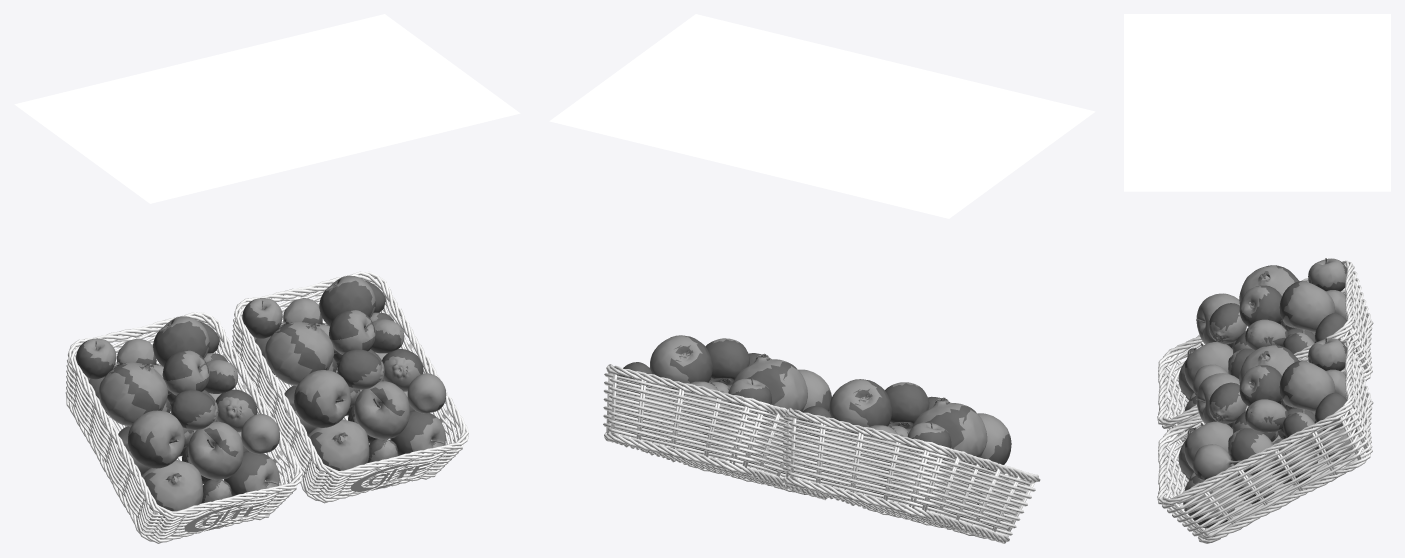
File: khronos fruit basket.gltf
3 renders of one model, left to right at view 1: azimuth 30°, elevation 25°; view 2: azimuth 150°, elevation 25°; view 3: azimuth 270°, elevation 25°, orthographic. The views are drawn at different scales.
Visible parts, largest first — view 1: Plane, FruitRight, FruitLeft, BasketLeft, BasketRight, LogoRight, LogoLeft; view 2: Plane, BasketLeft, BasketRight, FruitLeft, FruitRight; view 3: Plane, FruitRight, BasketRight, FruitLeft, BasketLeft.
Boxes of the visible parts, left/top/right/bottom form: Plane: left=14, top=14, right=520, bottom=203; FruitRight: left=242, top=275, right=446, bottom=486; FruitLeft: left=76, top=316, right=279, bottom=524; BasketLeft: left=65, top=312, right=302, bottom=543; BasketRight: left=232, top=271, right=468, bottom=503; LogoRight: left=350, top=462, right=430, bottom=491; LogoLeft: left=184, top=503, right=264, bottom=532; Plane: left=549, top=14, right=1095, bottom=218; BasketLeft: left=782, top=408, right=1040, bottom=543; BasketRight: left=603, top=364, right=828, bottom=500; FruitLeft: left=796, top=379, right=1012, bottom=526; FruitRight: left=616, top=335, right=831, bottom=473; Plane: left=1124, top=14, right=1390, bottom=191; FruitRight: left=1178, top=337, right=1356, bottom=528; BasketRight: left=1157, top=340, right=1373, bottom=543; FruitLeft: left=1178, top=258, right=1356, bottom=431; BasketLeft: left=1157, top=260, right=1373, bottom=441.
Size of the model in its own units: 4.33 by 4.26 by 2.75.
